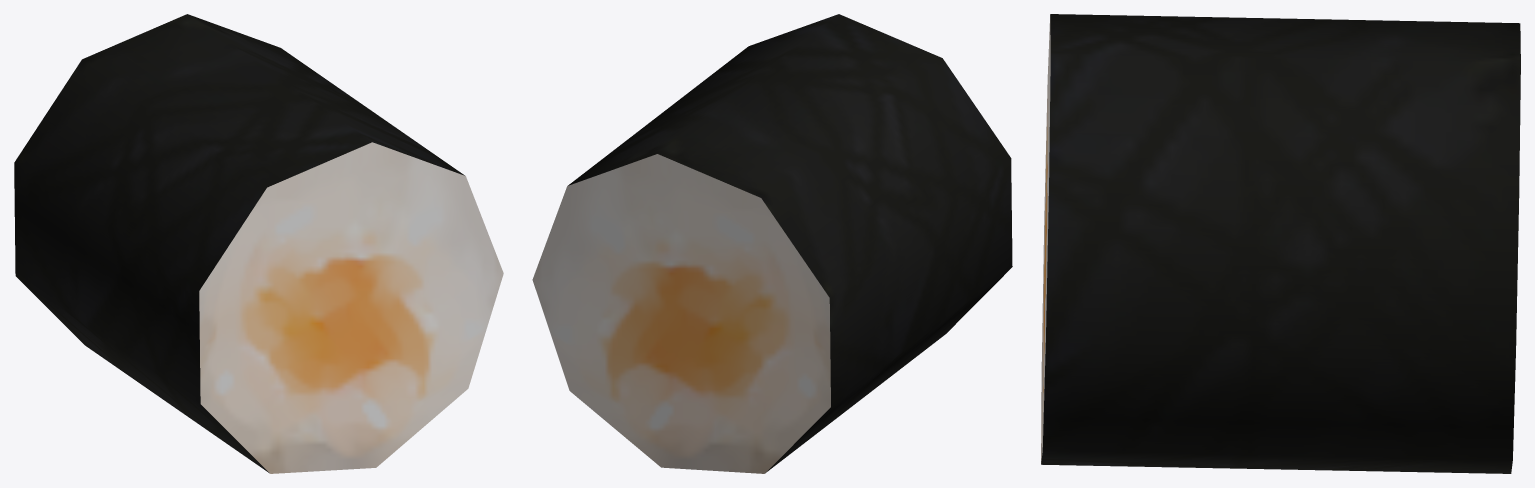
The model's file is Sushi.fbx.
3 renders of one model, left to right at view 1: azimuth 30°, elevation 25°; view 2: azimuth 150°, elevation 25°; view 3: azimuth 270°, elevation 25°, orthographic. The views are drawn at different scales.
Visible parts, largest first — view 1: Maki; view 2: Maki; view 3: Maki.
Part boxes in pixels (bbox=[...]): Maki: bbox=[14, 14, 503, 473]; Maki: bbox=[532, 14, 1012, 473]; Maki: bbox=[1041, 14, 1520, 473].
Bounding box in the file's own units: 11.04 × 11.46 × 11.88.
